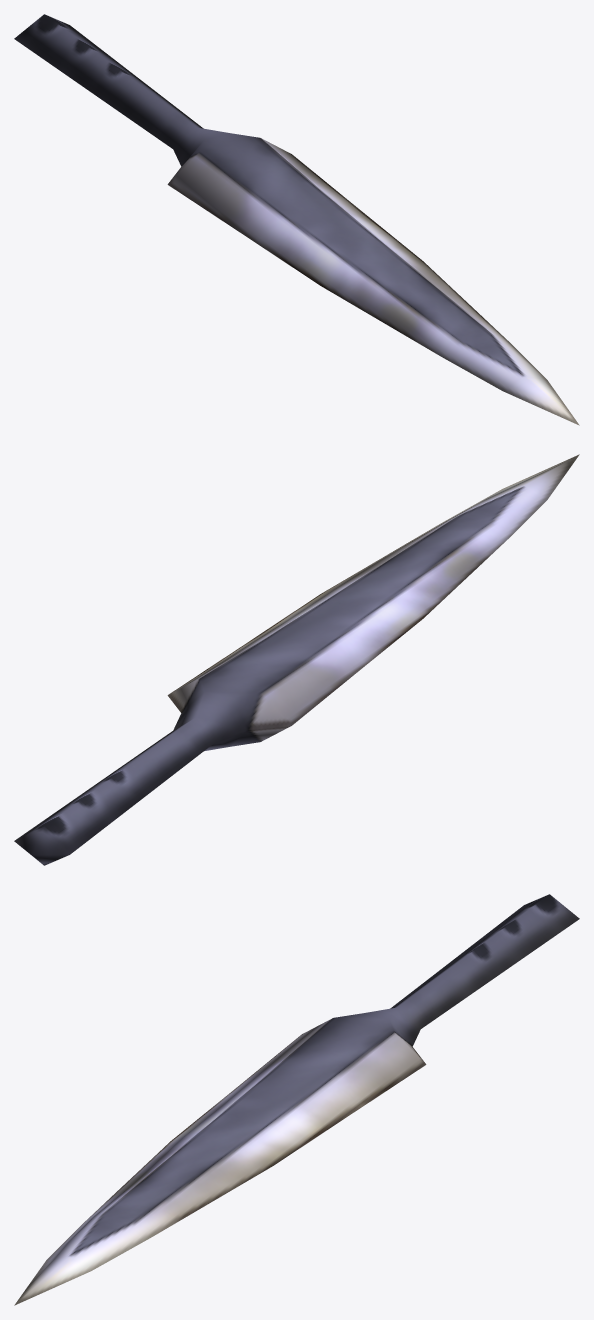
Rendered from dagger.fbx.
3 renders of one model, top to bottom at view 1: azimuth 30°, elevation 25°; view 2: azimuth 150°, elevation 25°; view 3: azimuth 330°, elevation 25°, orthographic.
Visible parts, largest first — view 1: dagger; view 2: dagger; view 3: dagger.
Part boxes in pixels (<box>): dagger: <box>14,14,579,425</box>; dagger: <box>14,454,579,865</box>; dagger: <box>14,894,579,1305</box>.
Size of the model in its own units: 12.7 by 4.72 by 96.75.
Materials: 1 (1 with a texture image).
